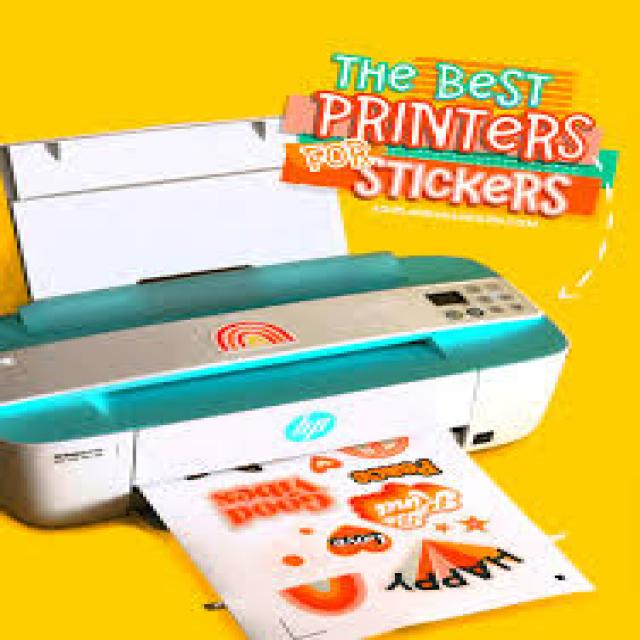printer: (0, 100, 632, 602)
